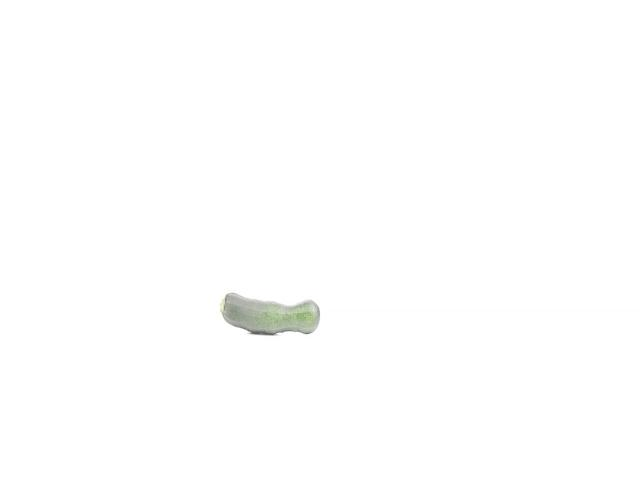cucumber: (219, 292, 319, 334)
